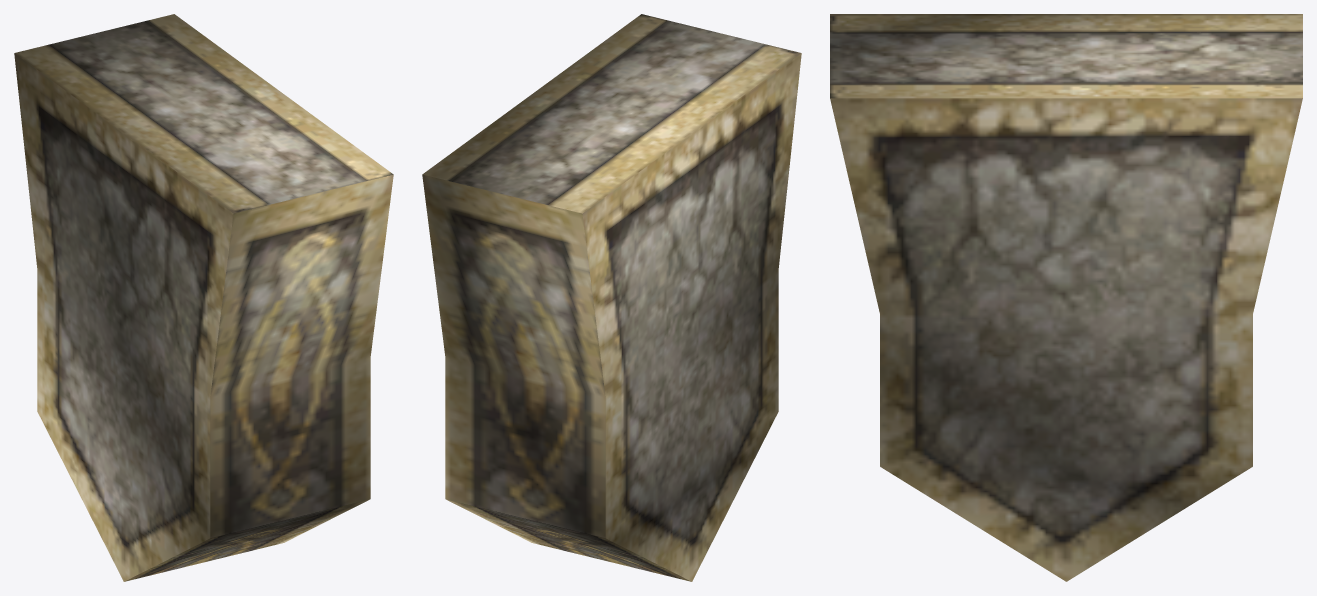
Rendered from obj_mariprprjoint01.glb.
The picture shows the model from 3 angles, left to right: view 1: azimuth 30°, elevation 25°; view 2: azimuth 150°, elevation 25°; view 3: azimuth 270°, elevation 25°; orthographic projection. The views are drawn at different scales.
Parts seen in each view (by area): view 1: part_0; view 2: part_0; view 3: part_0.
Boxes of the visible parts, <box> form: part_0: <box>14,14,393,581</box>; part_0: <box>422,14,801,581</box>; part_0: <box>830,14,1302,581</box>.
Size of the model in its own units: 1.34 by 3.59 by 3.18.
1 material, 1 textured.
